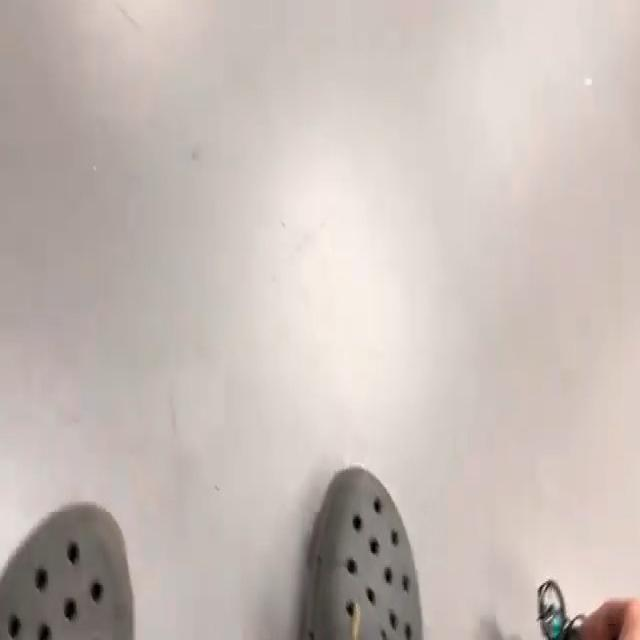drone: (531, 558, 598, 640)
